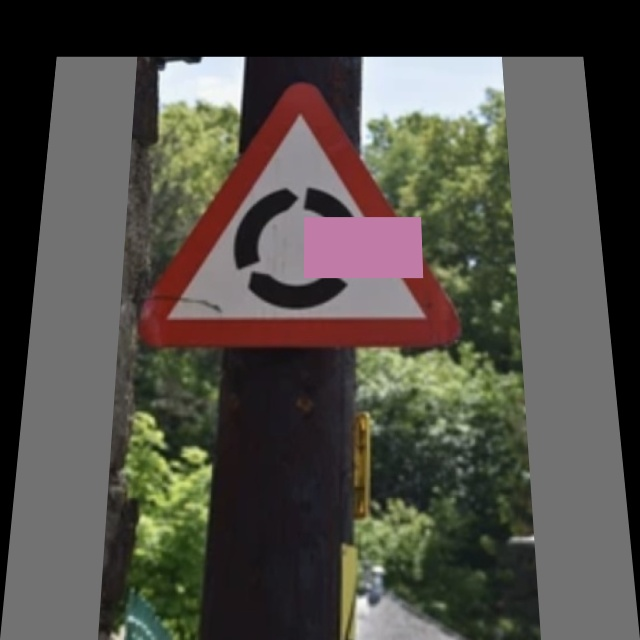Round_About: (147, 77, 455, 342)
